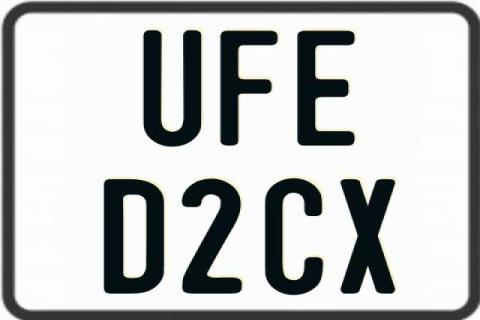0: (182, 178, 243, 298)
C: (264, 177, 327, 297)
D: (102, 177, 163, 295)
E: (296, 29, 358, 150)
F: (217, 30, 276, 148)
U: (141, 28, 205, 147)
X: (341, 178, 396, 294)
